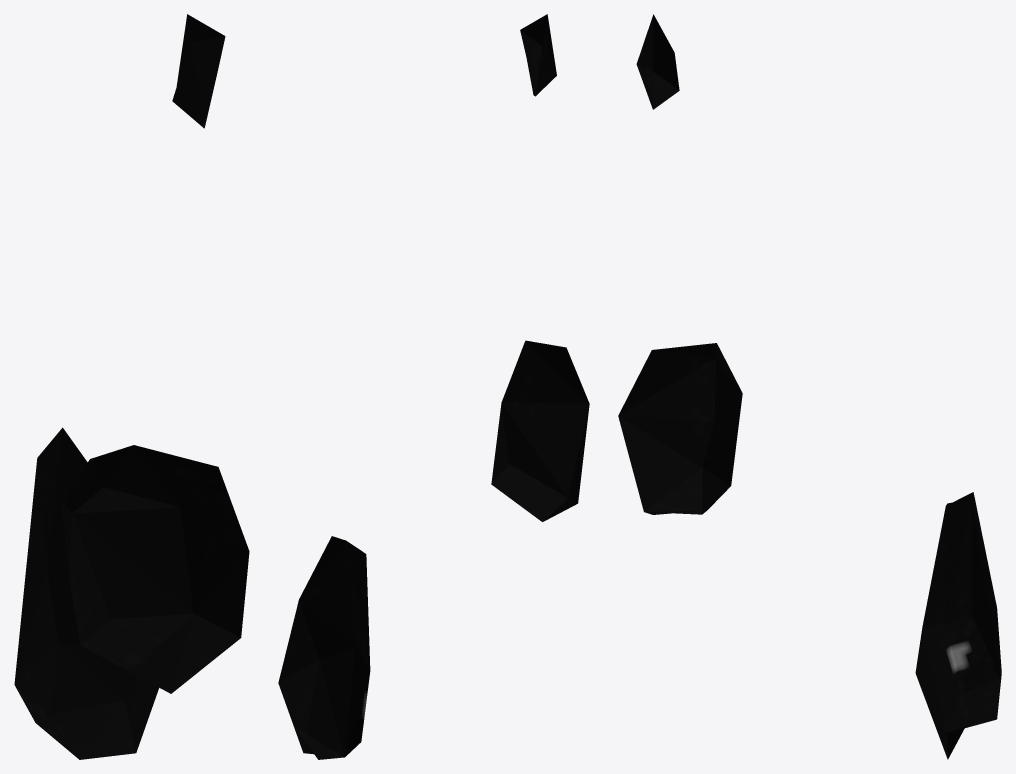
3 views of the same model, side by side, from view 1: azimuth 30°, elevation 25°; view 2: azimuth 150°, elevation 25°; view 3: azimuth 270°, elevation 25° (orthographic). The views are drawn at different scales.
Size of the model in its own units: 0.1006 by 0.3353 by 0.1682.
1 material, 1 textured.
